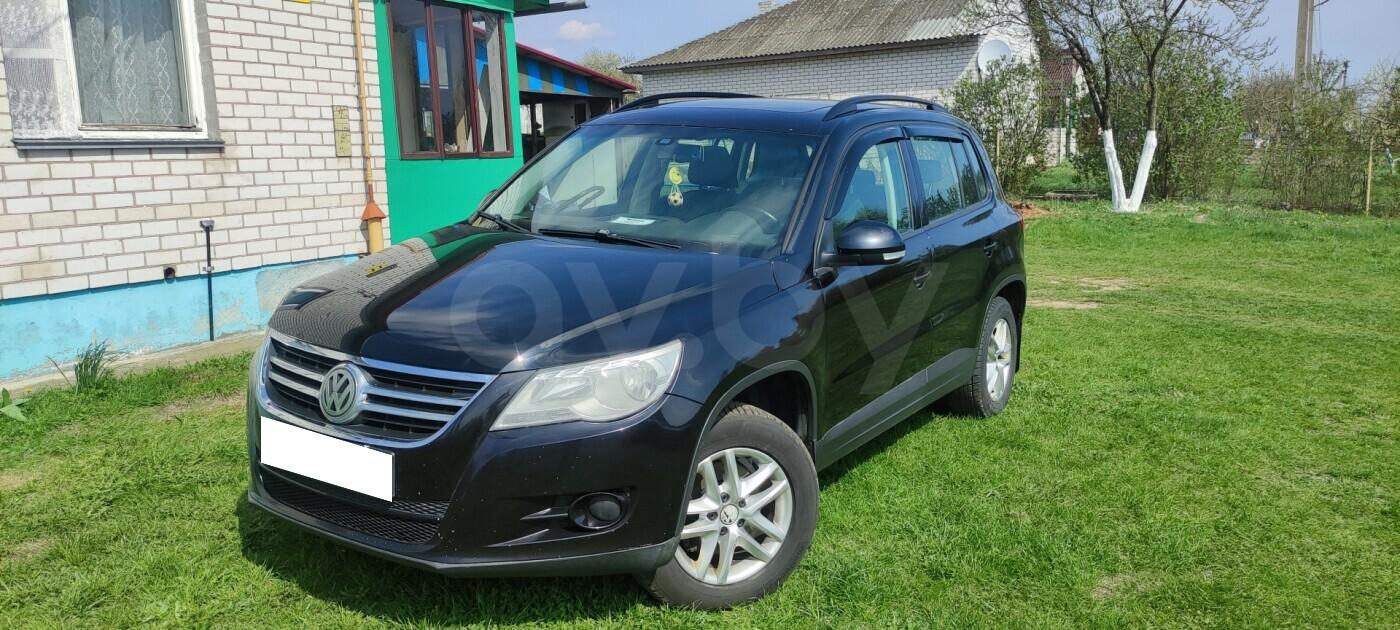Tiguan_2007-2011: (239, 97, 1034, 607)
